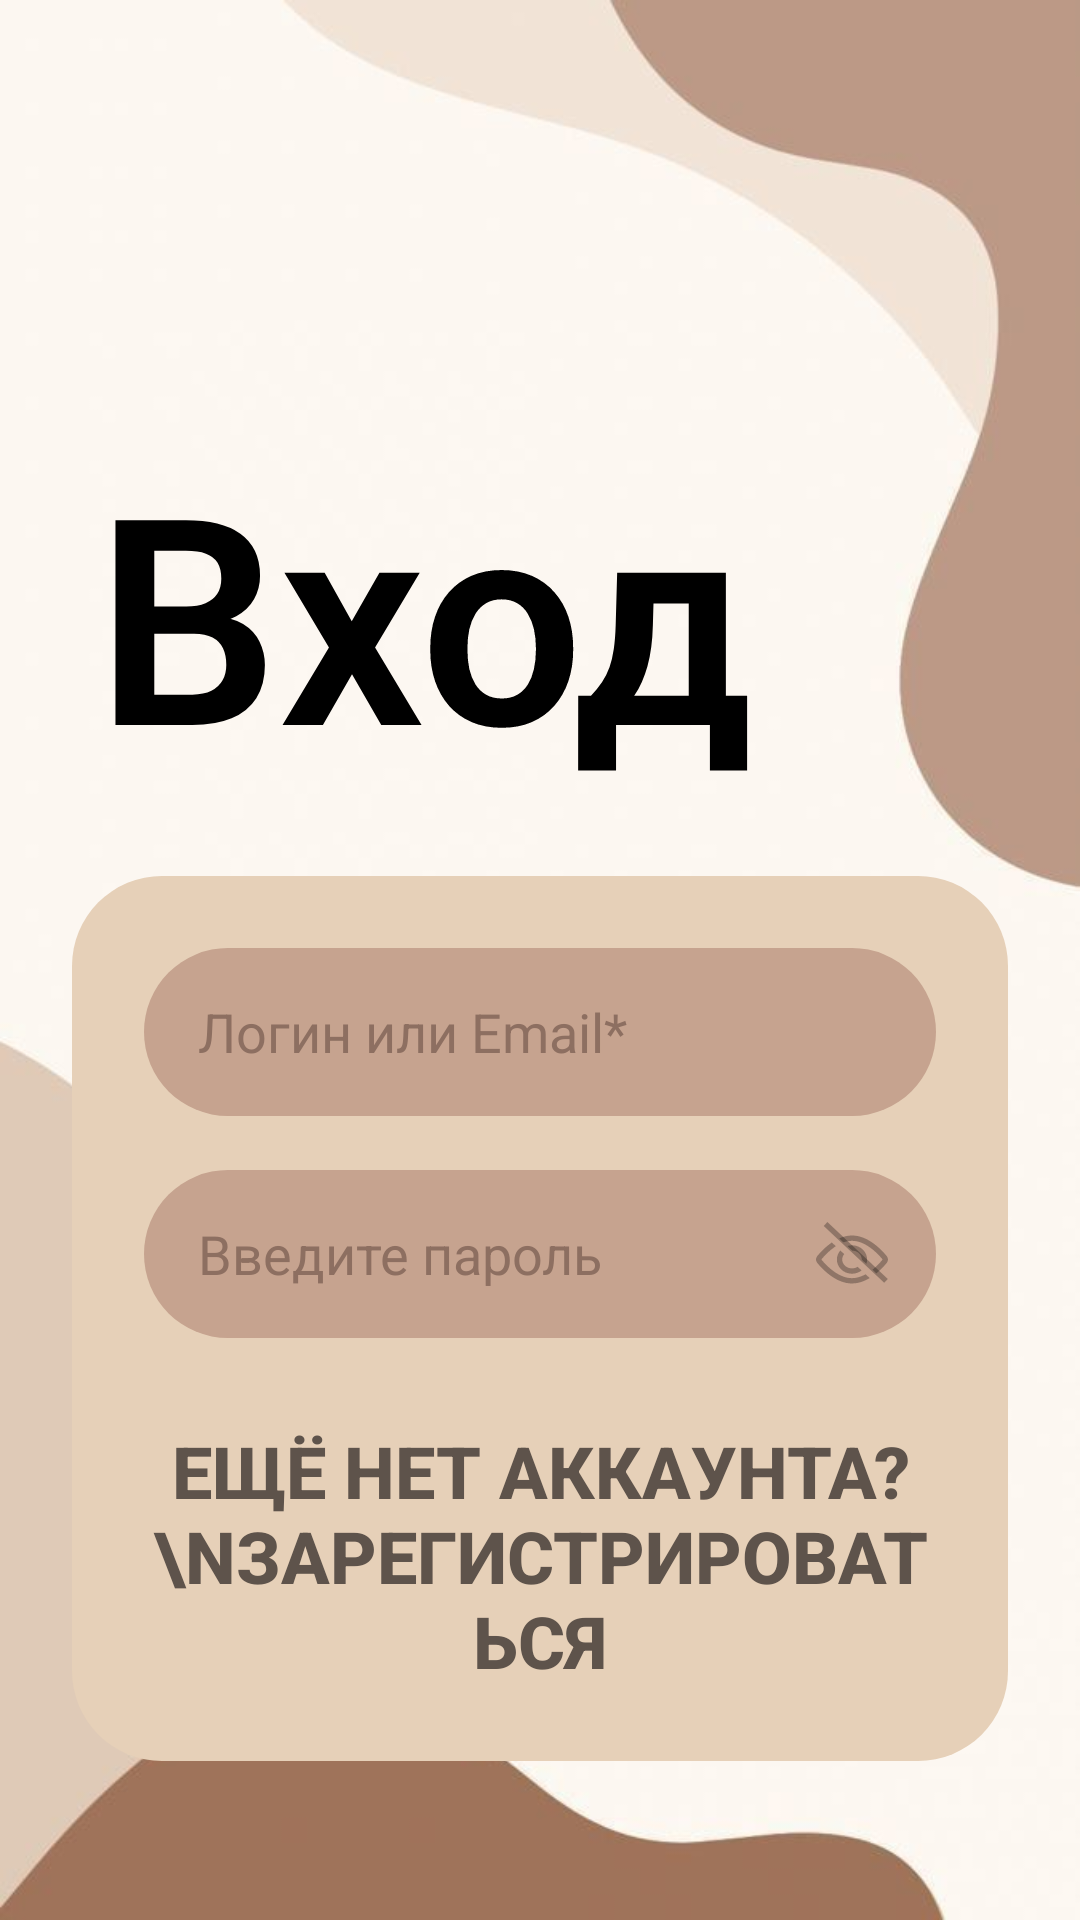

Icons on this 1080px×1920px Android screen, each with the point to tap as (x=x, y=y):
closeeye: (x=852, y=1253)
